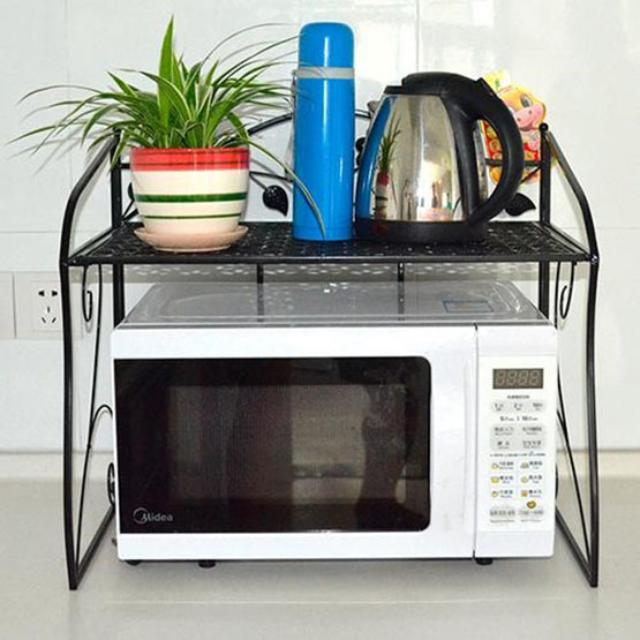Microwave: (110, 270, 560, 570)
